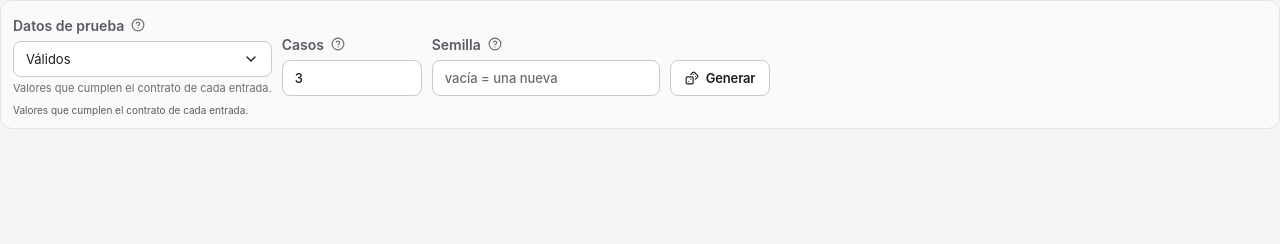
Test: generación de datos de prueba › avisa de las entradas cuyo contrato no admite ningún valor válido
The width and height of the screenshot is (1280, 244).
Step 1. Click the button "Generar" → click(720, 78), box [670,60,770,96]
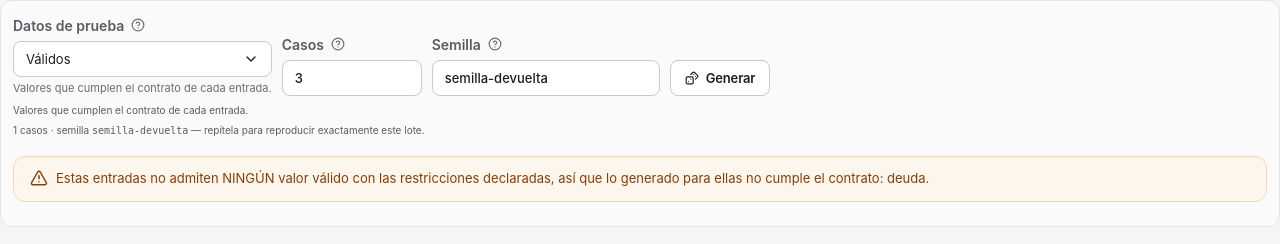
Expected: the text "no admiten NINGÚN valor válido" is shown, [56,170,887,186]
